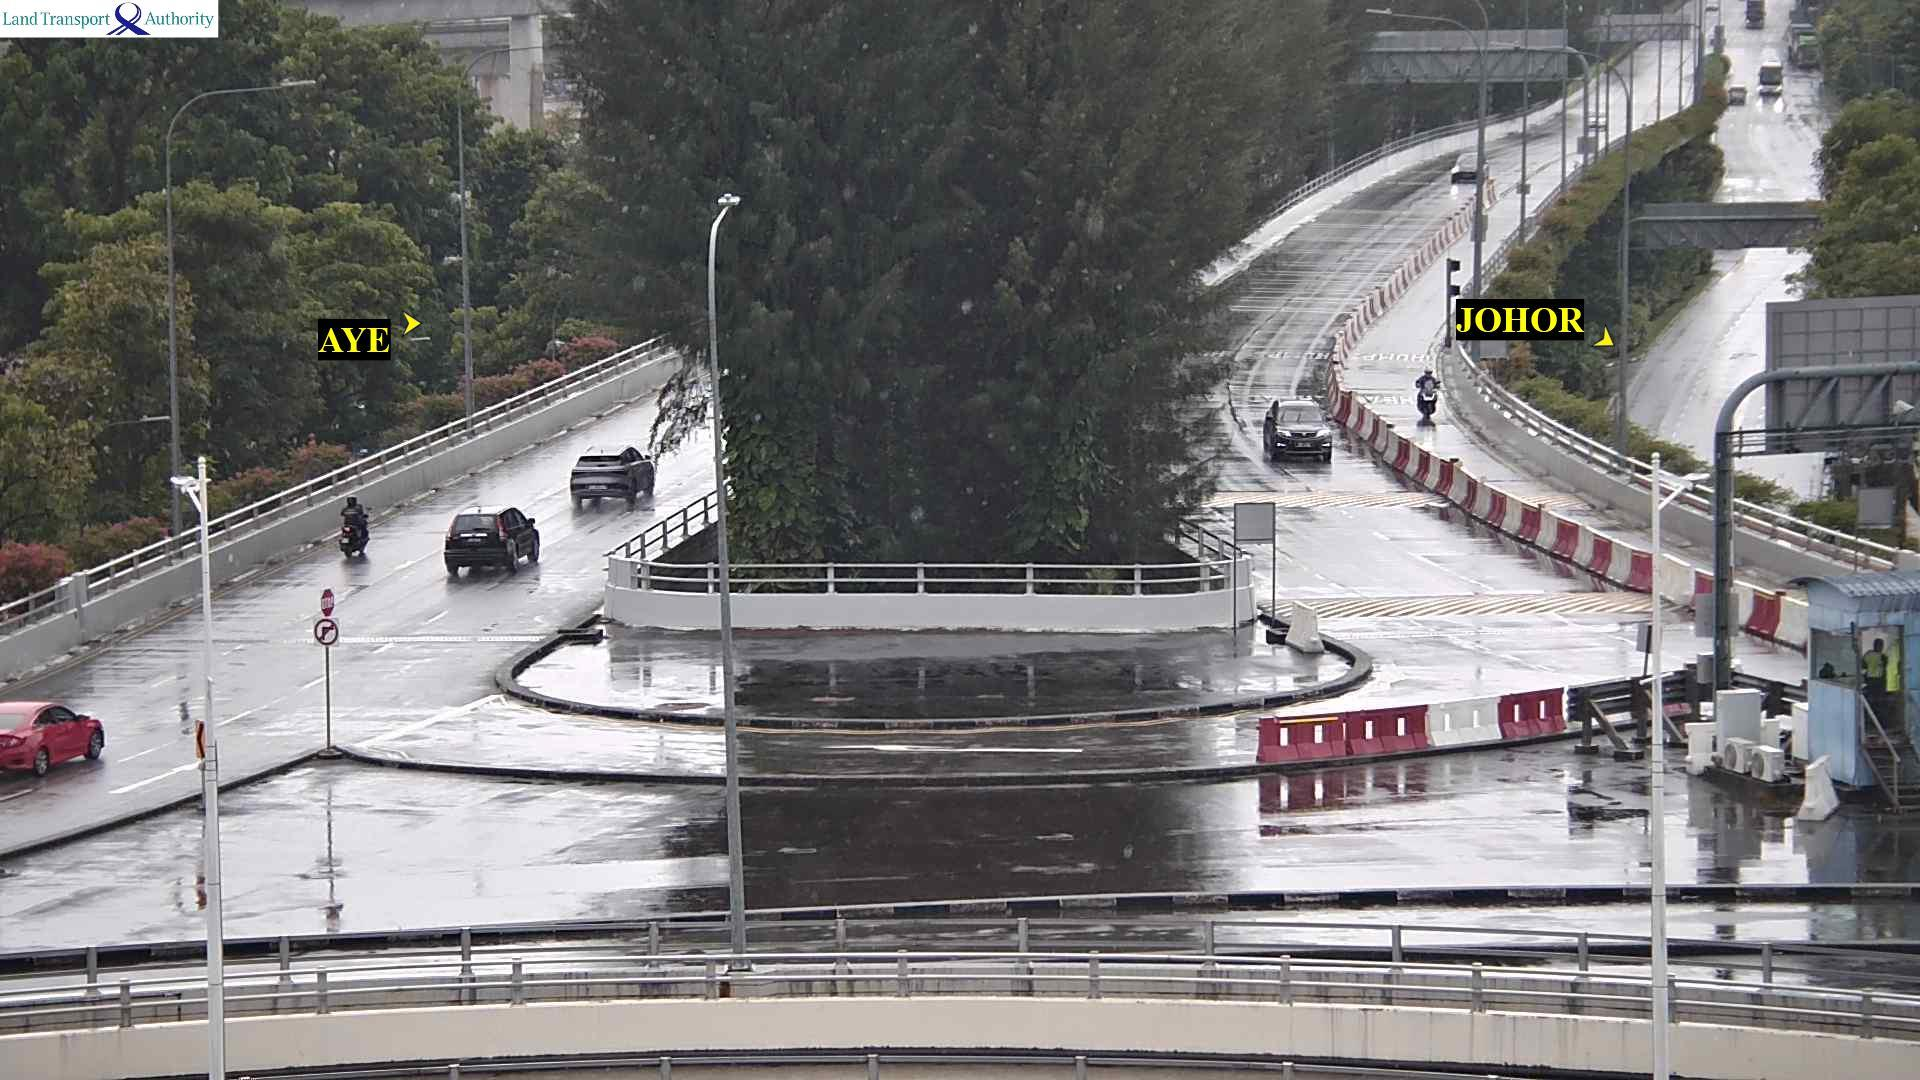vehicle-secondlink-johor: (1262, 397, 1324, 473), (1415, 367, 1440, 422), (1452, 150, 1481, 191)
vehicle-secondlink-singapore: (0, 696, 105, 782), (443, 500, 543, 576), (572, 442, 655, 506), (336, 492, 368, 559)
